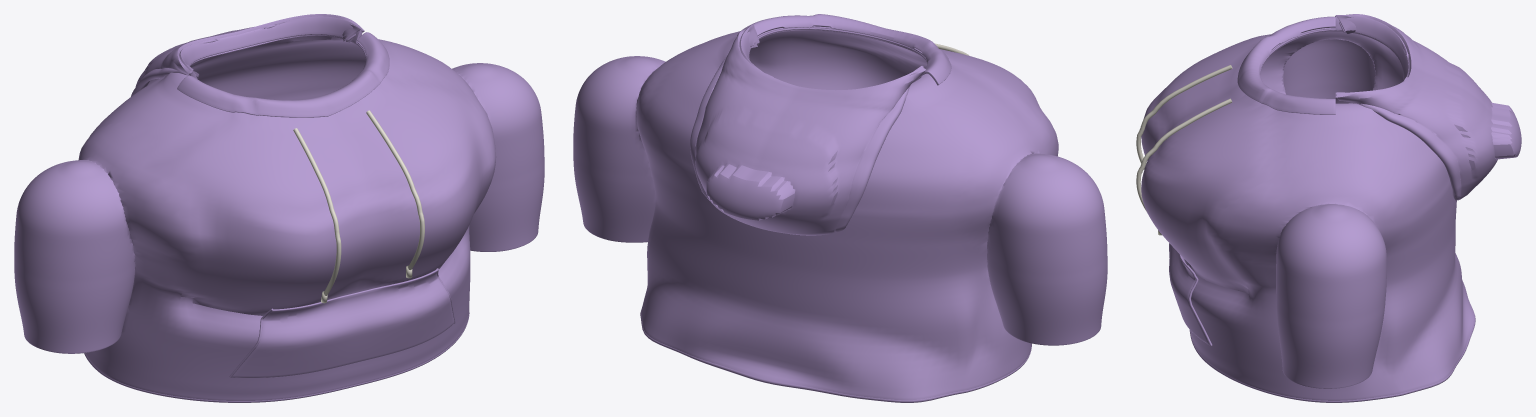
The model's file is Feminine-sweatshirt-top.glb.
3 views of the same model, side by side, from view 1: azimuth 30°, elevation 25°; view 2: azimuth 150°, elevation 25°; view 3: azimuth 270°, elevation 25° (orthographic). The views are drawn at different scales.
Visible parts, largest first — view 1: Clothing / joined sweatshirt186, Hoodie / kangaroo pocket, Hoodie / soft front fold188, Hoodie / seated rear fold187, Hoodie / resting hood, Top / seated hoodie hem191 export, Hoodie / drawcord -1 export, Hoodie / drawcord 1 export; view 2: Clothing / joined sweatshirt186, Hoodie / resting hood, Hoodie / soft front fold188, Top / seated hoodie hem191 export; view 3: Clothing / joined sweatshirt186, Hoodie / resting hood, Hoodie / soft front fold188, Hoodie / kangaroo pocket, Hoodie / seated rear fold187, Top / seated hoodie hem191 export, Hoodie / drawcord 1 export, Hoodie / drawcord -1 export.
Boxes of the visible parts, x1,y1,x2,y2 form: Clothing / joined sweatshirt186: (14,34,544,400); Hoodie / kangaroo pocket: (231,270,454,377); Hoodie / soft front fold188: (177,32,389,117); Hoodie / seated rear fold187: (179,16,363,78); Hoodie / resting hood: (131,14,364,96); Top / seated hoodie hem191 export: (84,313,469,402); Hoodie / drawcord -1 export: (293,128,341,295); Hoodie / drawcord 1 export: (366,110,424,269); Clothing / joined sweatshirt186: (573,26,1107,400); Hoodie / resting hood: (690,24,925,235); Hoodie / soft front fold188: (737,14,951,85); Top / seated hoodie hem191 export: (640,310,1031,402); Clothing / joined sweatshirt186: (1141,27,1473,400); Hoodie / resting hood: (1335,14,1521,200); Hoodie / soft front fold188: (1237,16,1335,114); Hoodie / kangaroo pocket: (1169,243,1209,345); Hoodie / seated rear fold187: (1335,15,1409,103); Top / seated hoodie hem191 export: (1189,282,1475,402); Hoodie / drawcord 1 export: (1136,98,1232,211); Hoodie / drawcord -1 export: (1136,65,1232,169).
Bounding box in the file's own units: 0.9381 × 0.4903 × 0.6383.
